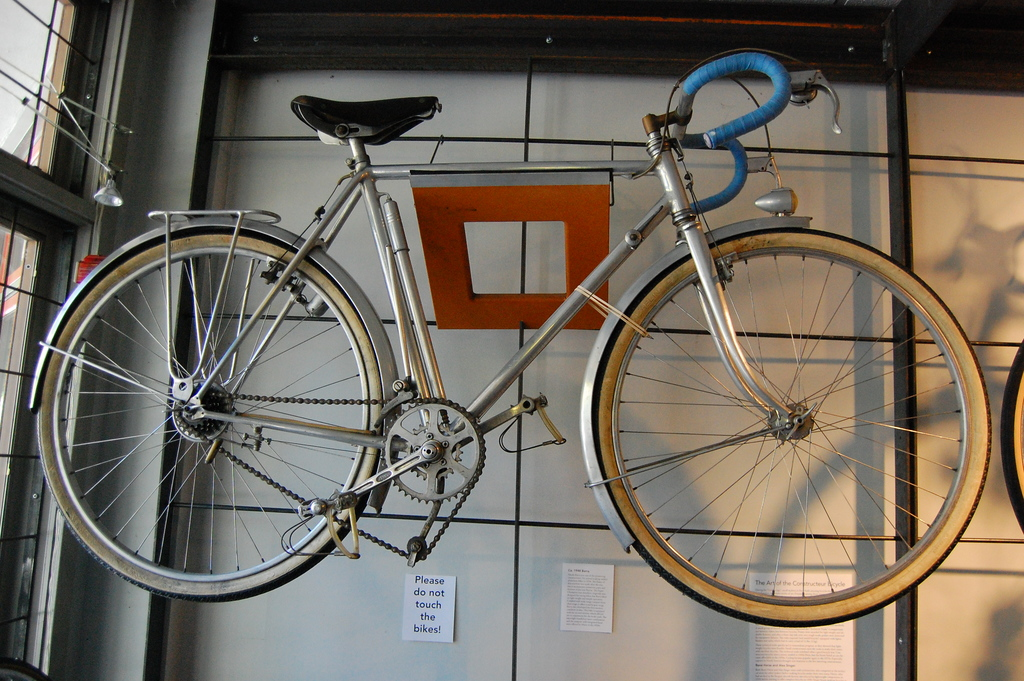Bicycle: (44, 60, 998, 634)
